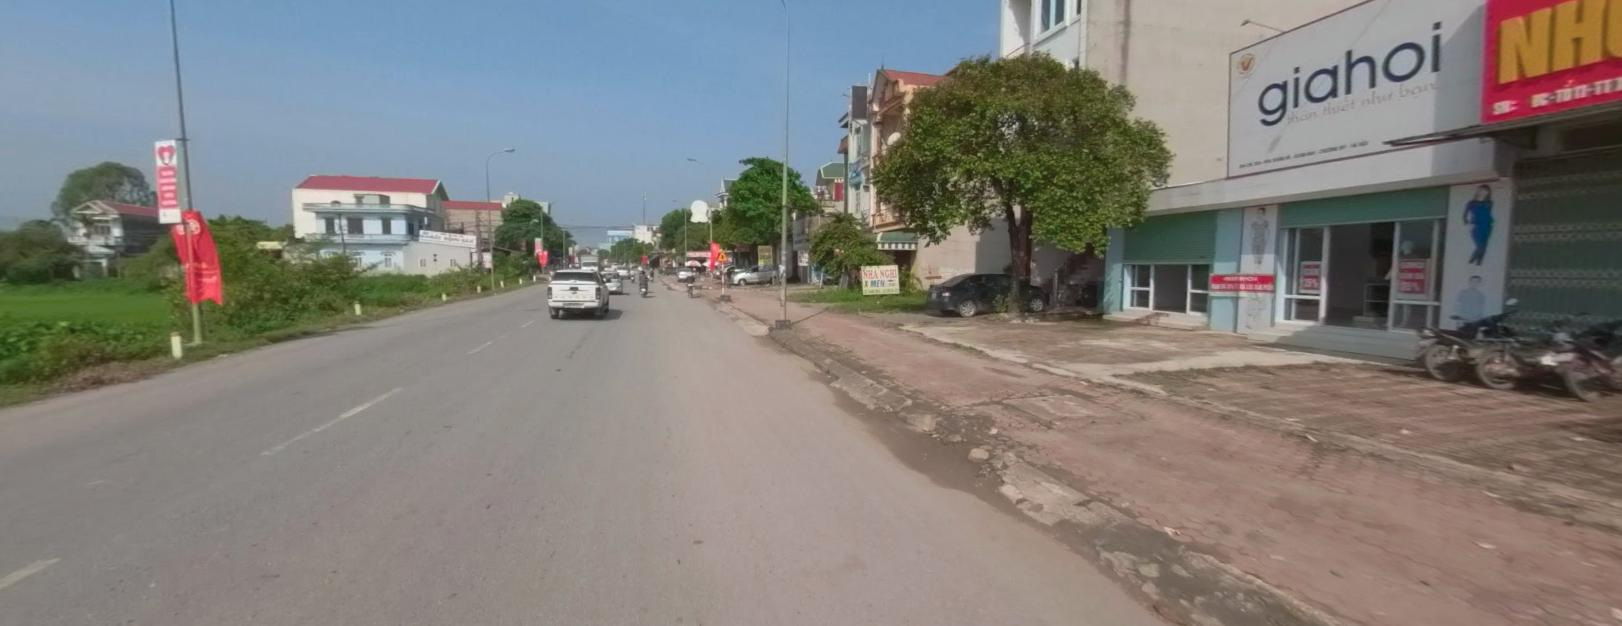Nguy hiem: (715, 249, 728, 259)
